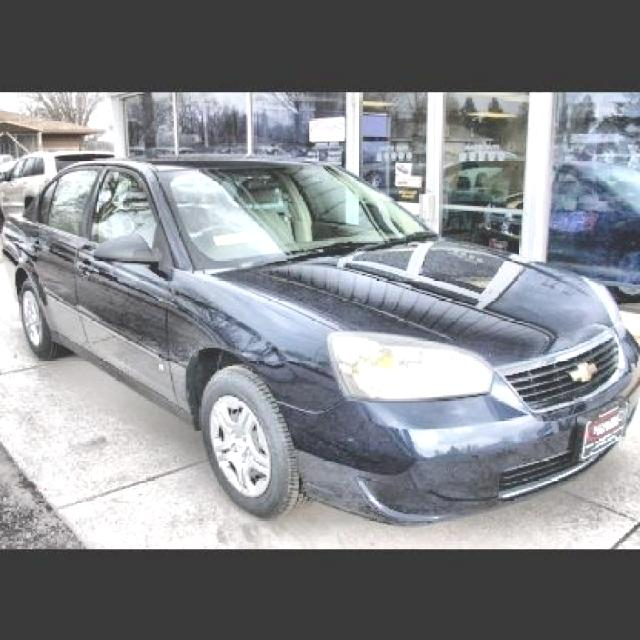black: (0, 135, 631, 488)
